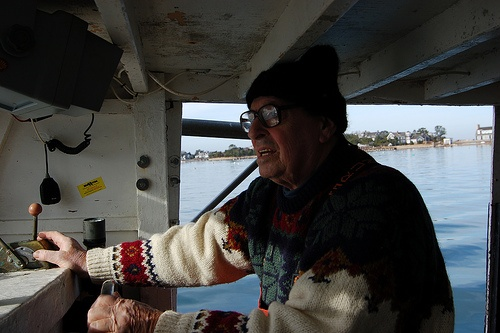head: (239, 44, 350, 180)
person: (22, 43, 471, 331)
